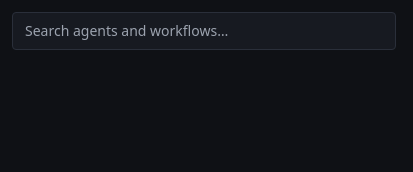
it: SearchBox › shows stable API errors including a not-provisioned 503
Type "agents" into the dropdown at (204, 31), box [12,12,396,50]
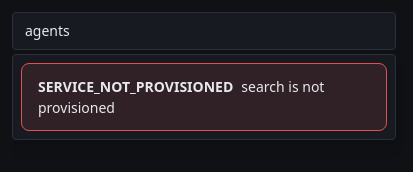
Now the message shows "SERVICE_NOT_PROVISIONED", box [38,77,233,96]
Now the message shows "search is not provisioned", box [38,77,324,117]
